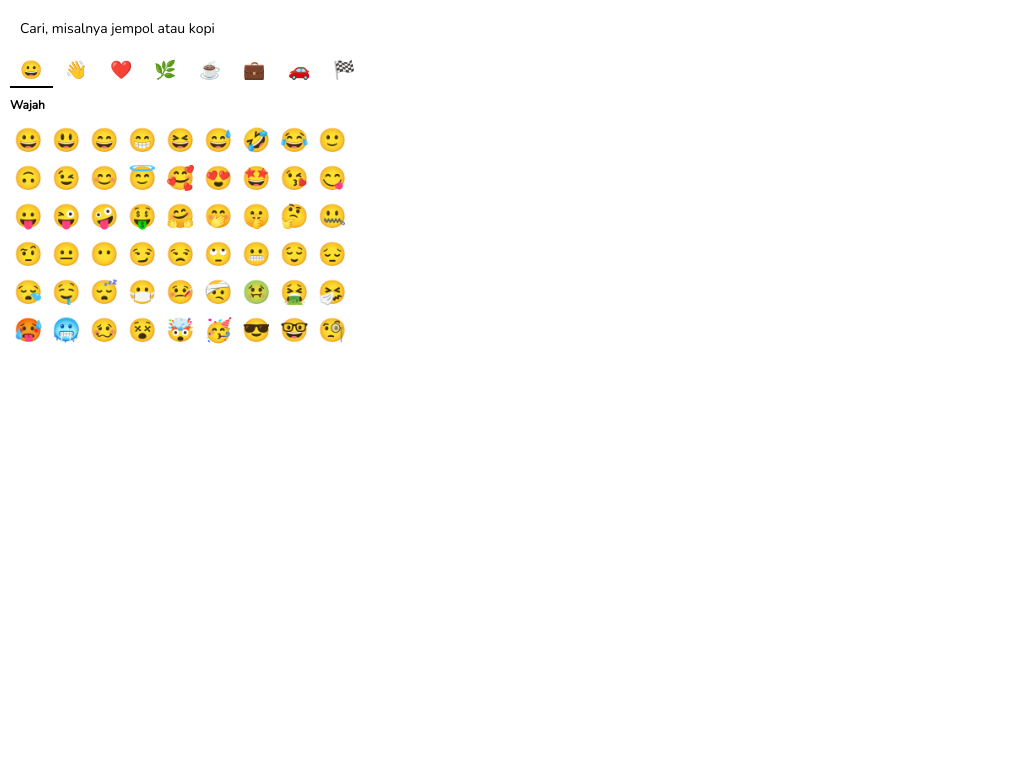
EmojiPicker › hasil kosong memberi pesan singkat
The width and height of the screenshot is (1024, 768).
In the field named "Cari emoji": (188, 28) [10, 10, 365, 46], type "zzzz"
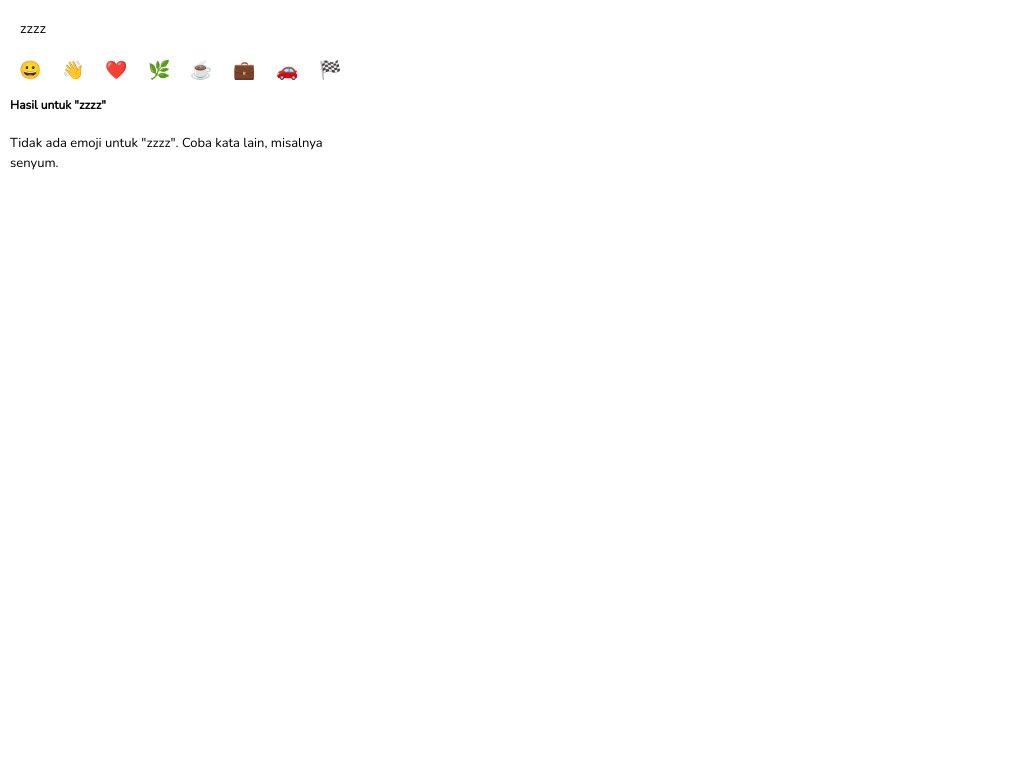
expect the message shows "Tidak ada emoji untuk \"zzzz\".": met, box [10, 134, 323, 172]
